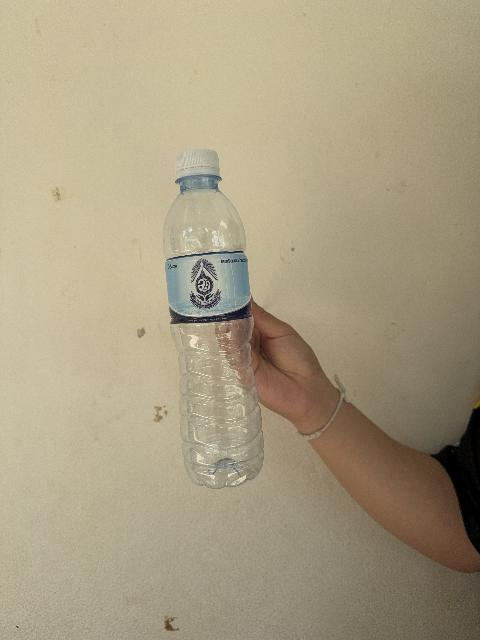bottle: (164, 150, 263, 488)
